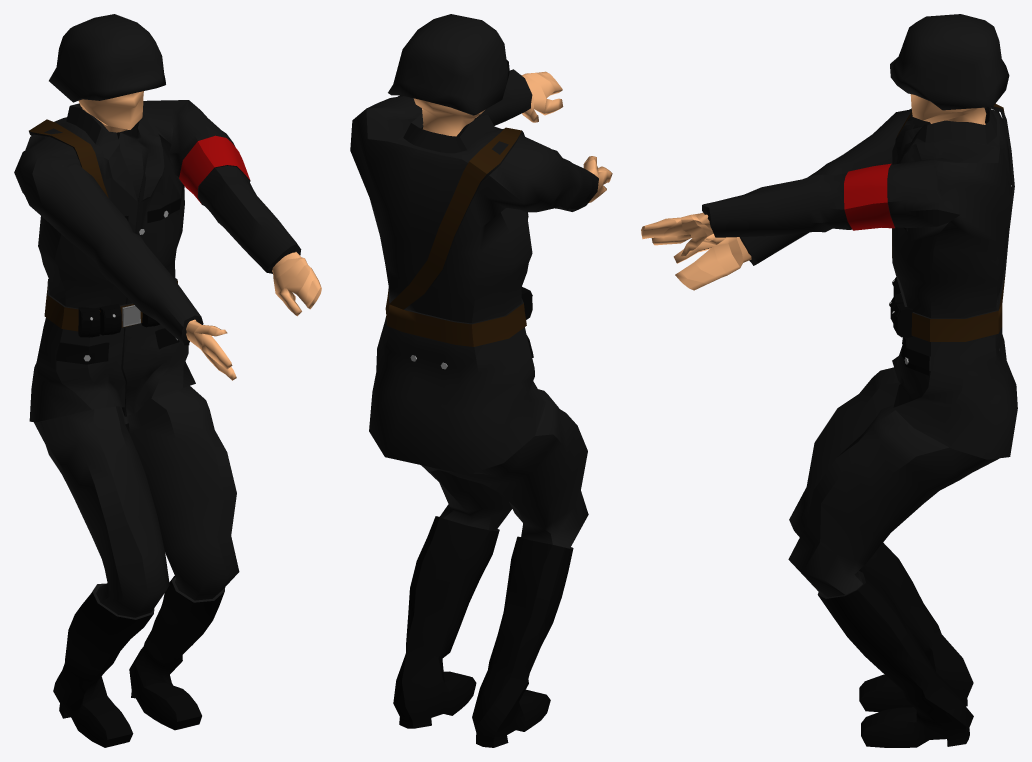
File: german_infantry_aim_crouch_01.glb
3 renders of one model, left to right at view 1: azimuth 30°, elevation 25°; view 2: azimuth 150°, elevation 25°; view 3: azimuth 270°, elevation 25°, orthographic. The views are drawn at different scales.
Parts seen in each view (by area): view 1: Soldier_1_Static, Helmet_Static; view 2: Soldier_1_Static, Helmet_Static; view 3: Soldier_1_Static, Helmet_Static.
Part boxes in pixels (<box>): Soldier_1_Static: <box>14,91,321,747</box>; Helmet_Static: <box>49,14,165,102</box>; Soldier_1_Static: <box>350,69,612,747</box>; Helmet_Static: <box>388,14,509,115</box>; Soldier_1_Static: <box>641,94,1017,747</box>; Helmet_Static: <box>890,14,1009,110</box>.
Size of the model in its own units: 0.4721 by 1.59 by 0.7714.
Materials: 1 (1 with a texture image).
